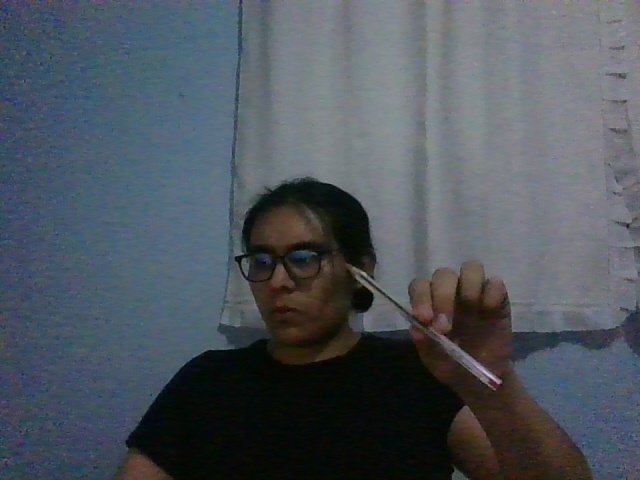pluma: (342, 262, 504, 393)
